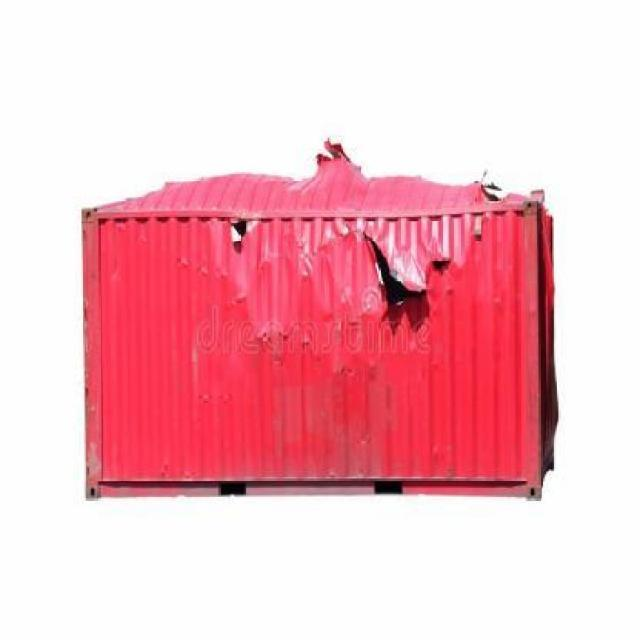dent: (189, 226, 478, 379), (98, 163, 483, 217)
hole: (364, 232, 427, 309), (233, 220, 249, 241), (434, 259, 451, 272)
